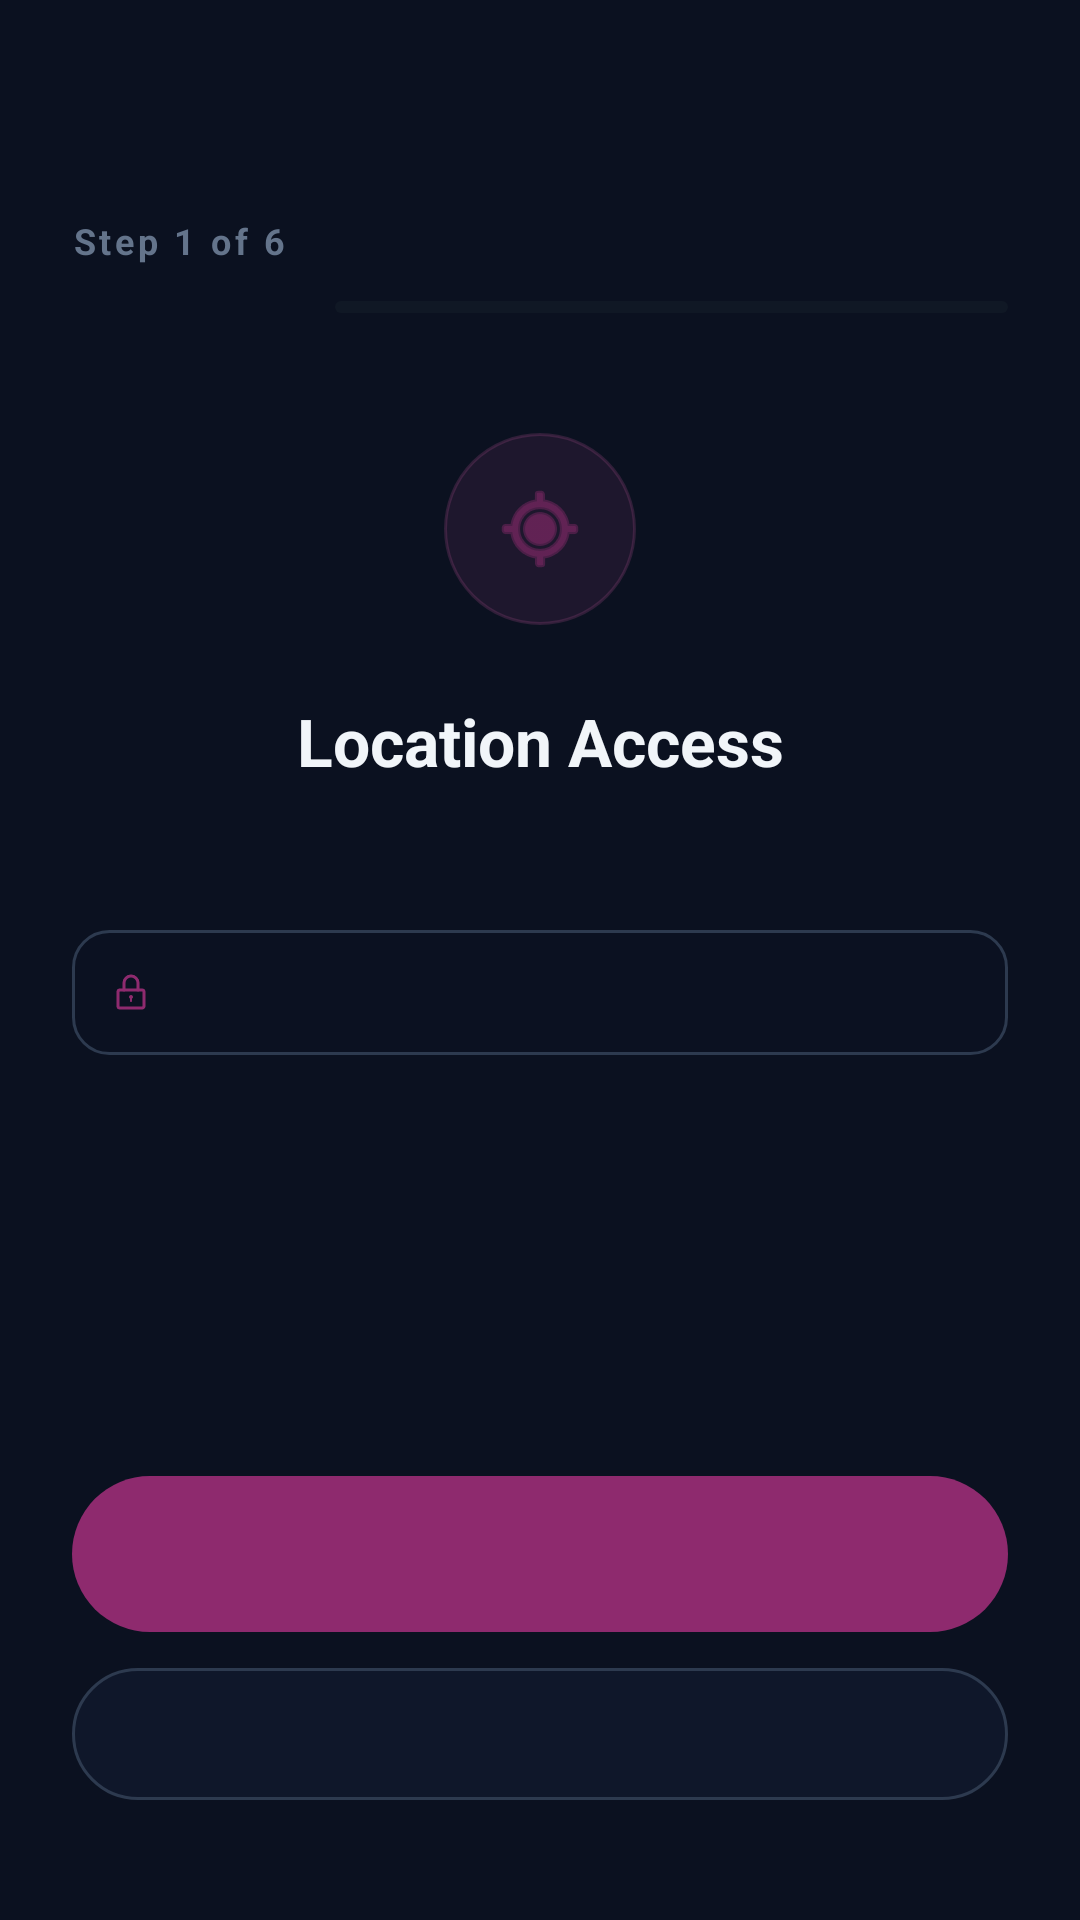

Screen size 1080w x 1920h. Icon name, then its center in pixels as (x,y):
mylocation: (540,529)
tile lock: (131,992)
